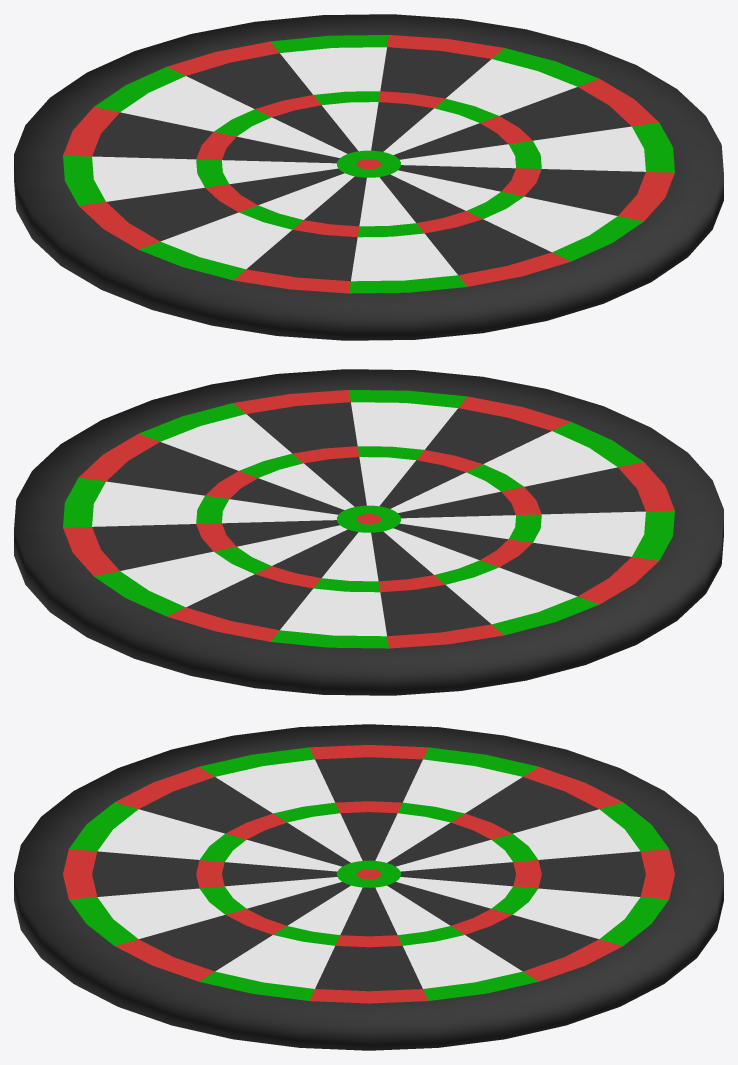
Rendered from DartBoardfbx.fbx.
The picture shows the model from 3 angles, top to bottom: view 1: azimuth 30°, elevation 25°; view 2: azimuth 150°, elevation 25°; view 3: azimuth 270°, elevation 25°; orthographic projection.
Parts seen in each view (by area): view 1: Circle; view 2: Circle; view 3: Circle.
Boxes of the visible parts, x1,y1,x2,y2 form: Circle: (14, 14, 723, 340); Circle: (14, 369, 723, 695); Circle: (14, 724, 723, 1050).
Size of the model in its own units: 401 by 16.52 by 401.
